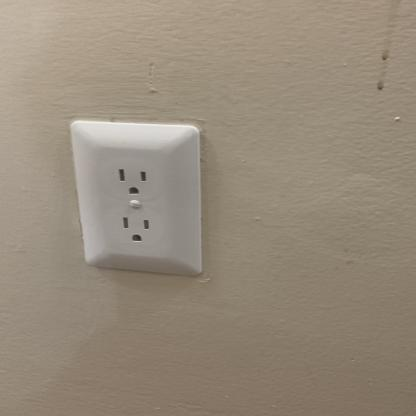OUTLET: (69, 118, 209, 278)
